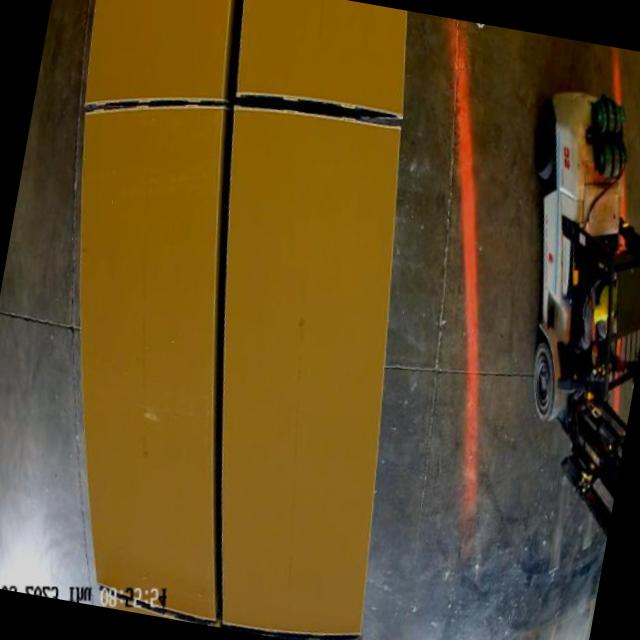driver: (563, 268, 632, 370)
forklift: (453, 64, 640, 573)
